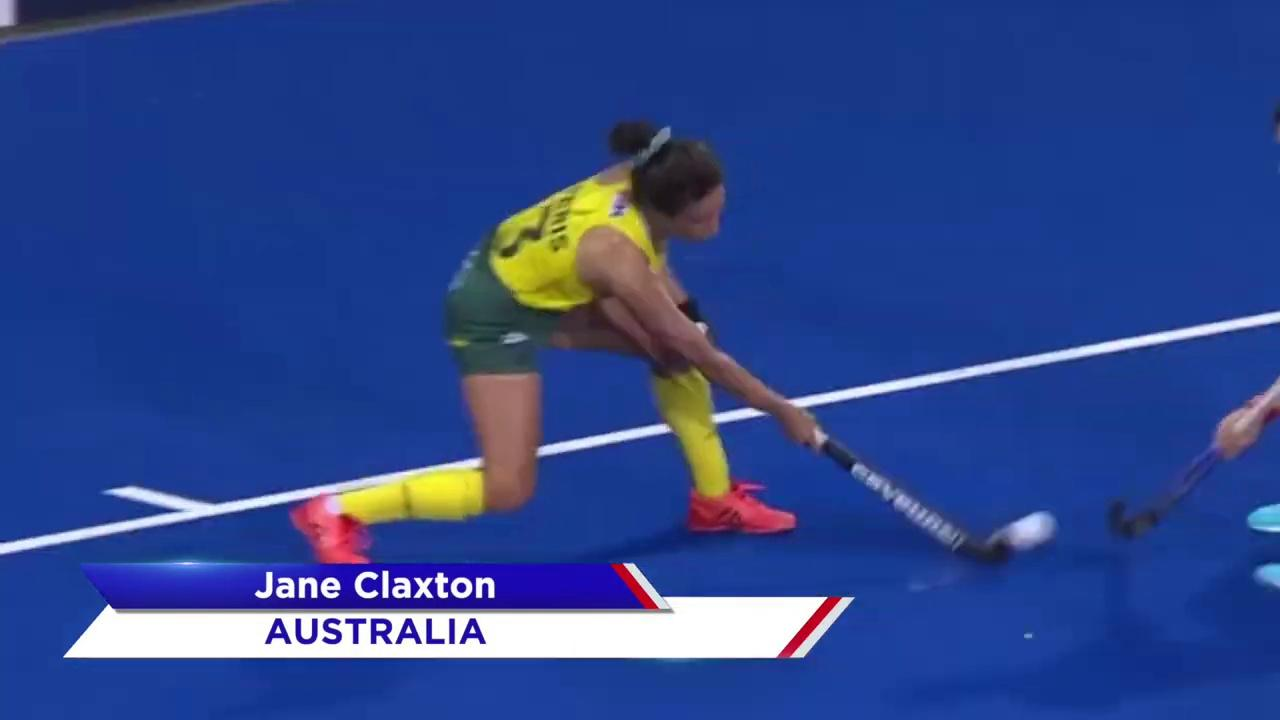ball: (990, 508, 1062, 554)
